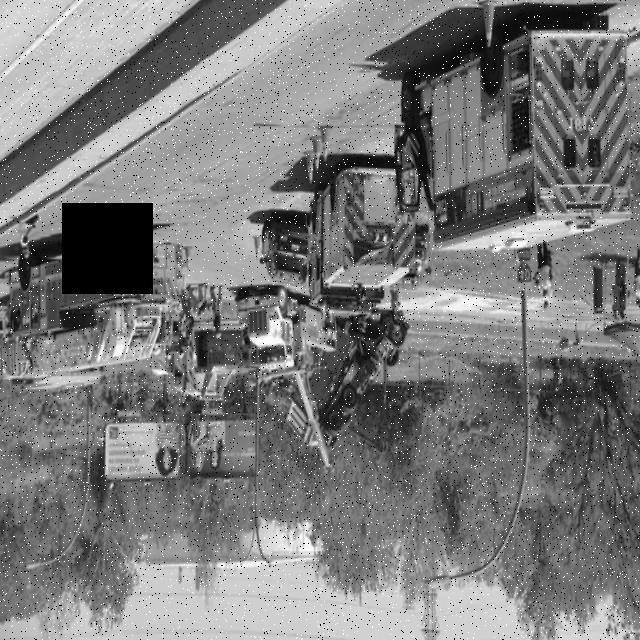severe: (281, 306, 408, 472)
